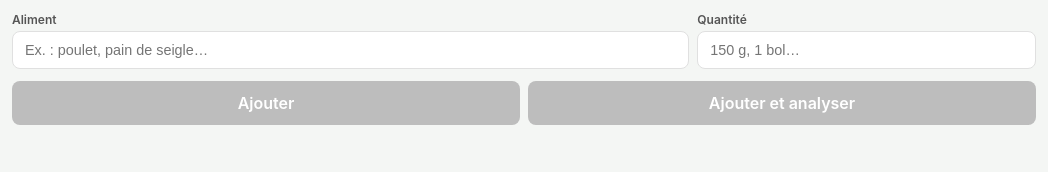
Test: FoodSearchComponent › suggestions › devrait afficher les suggestions filtrées depuis l'historique
The width and height of the screenshot is (1048, 172).
Type "pou" into the field with id "food-name" at (351, 50), box left=12, top=31, right=689, bottom=69
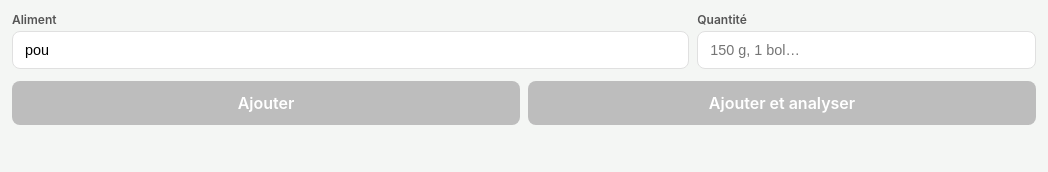
Focus the field with id "food-name" at (351, 50), box left=12, top=31, right=689, bottom=69
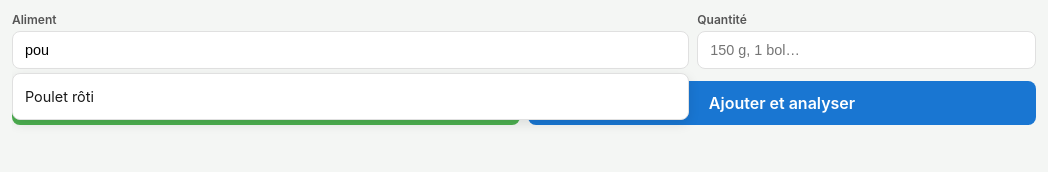
expect the option with class "food-search__suggestion" reads "Poulet rôti": met, box left=25, top=88, right=94, bottom=105
